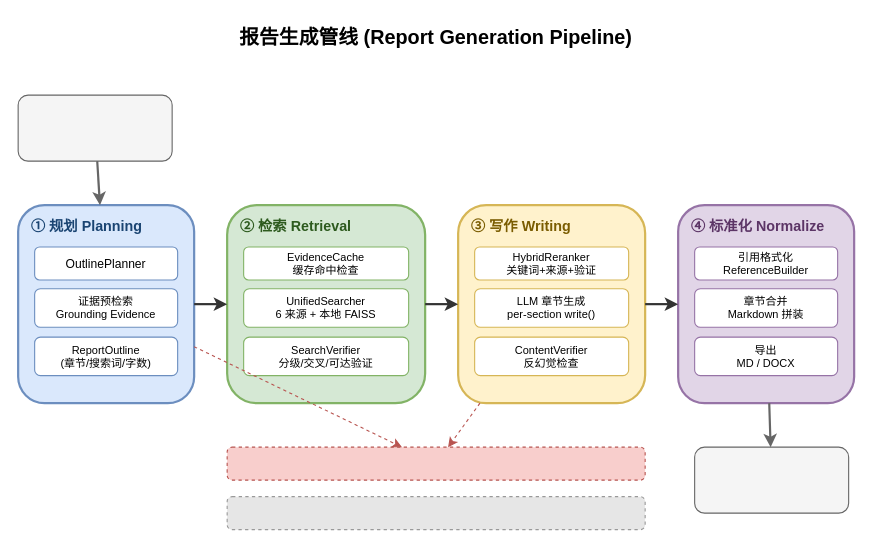
Image size: 872x548. Some labels were removed from this diagram. Each missing label, with the centre of its shape:
"最终报告 Report + References" belongs at pixel 771 479.
"用户输入 Topic / Template / Files" belongs at pixel 94 127.
"📚 CitationRegistry (全局引用编号)" belongs at pixel 435 513.
"📡 SSE 实时进度流 (progress_callback)" belongs at pixel 435 463.
